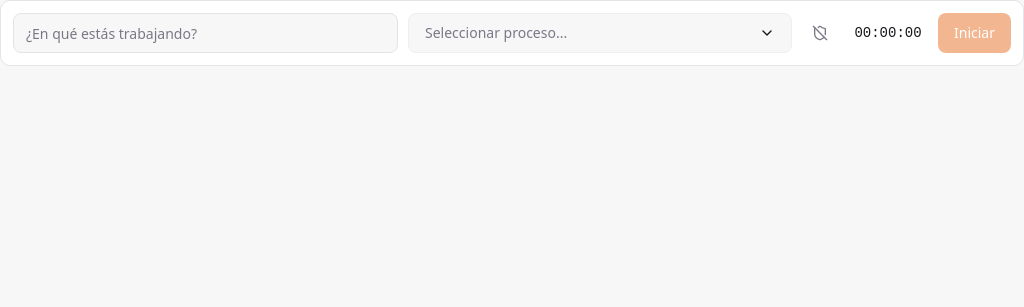
Test: TimeTrackerBar — Timer Mode › enables INICIO after selecting a task
The width and height of the screenshot is (1024, 307).
Click the button "Seleccionar proceso..." at point(496, 32), box [408,13,792,53]
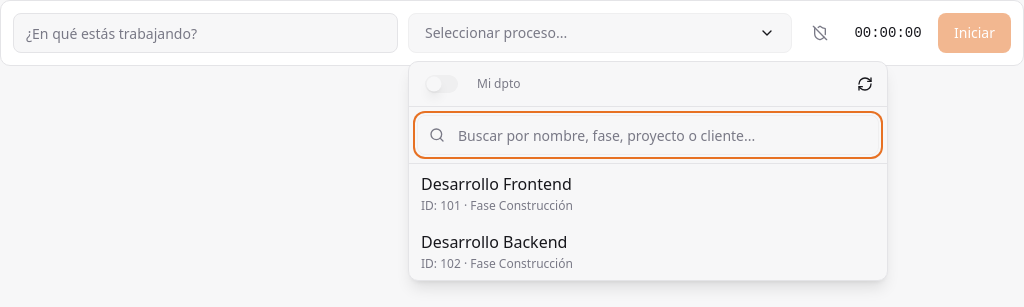
Click the text "Desarrollo Frontend" at point(496, 184), box [421,172,572,196]
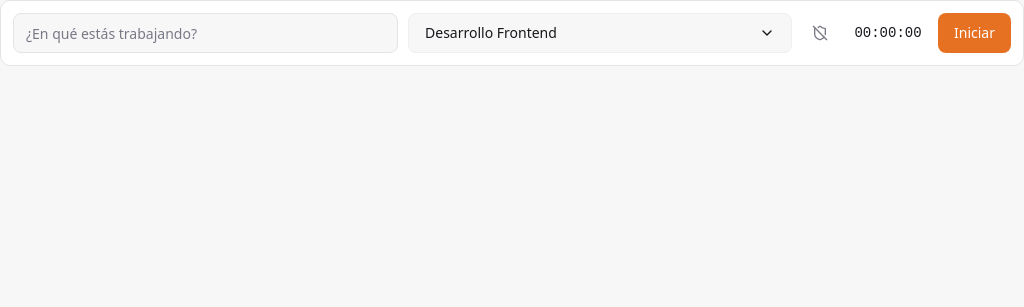
Check: the button "Iniciar" is enabled, box [938,13,1011,53]
